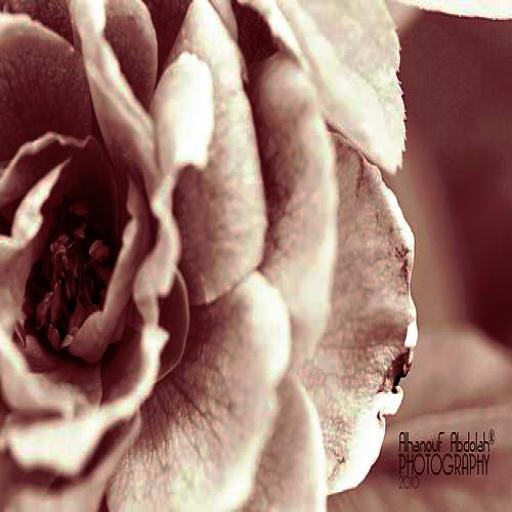tulip: (3, 0, 412, 510)
